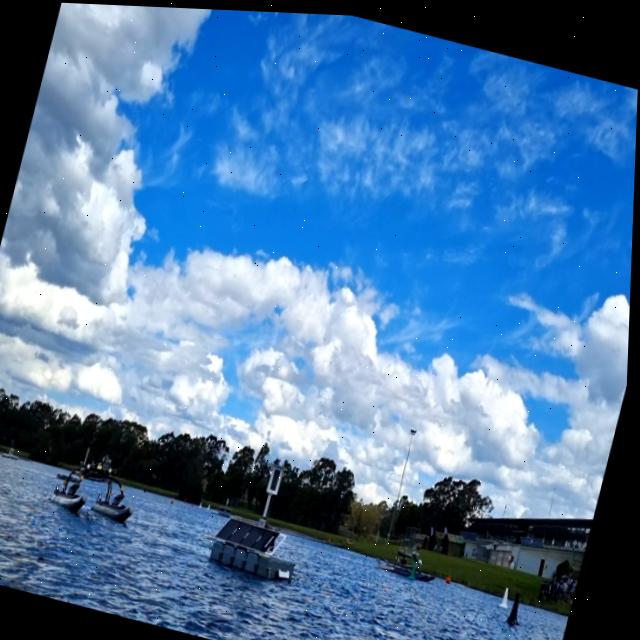led: (271, 464, 286, 490)
